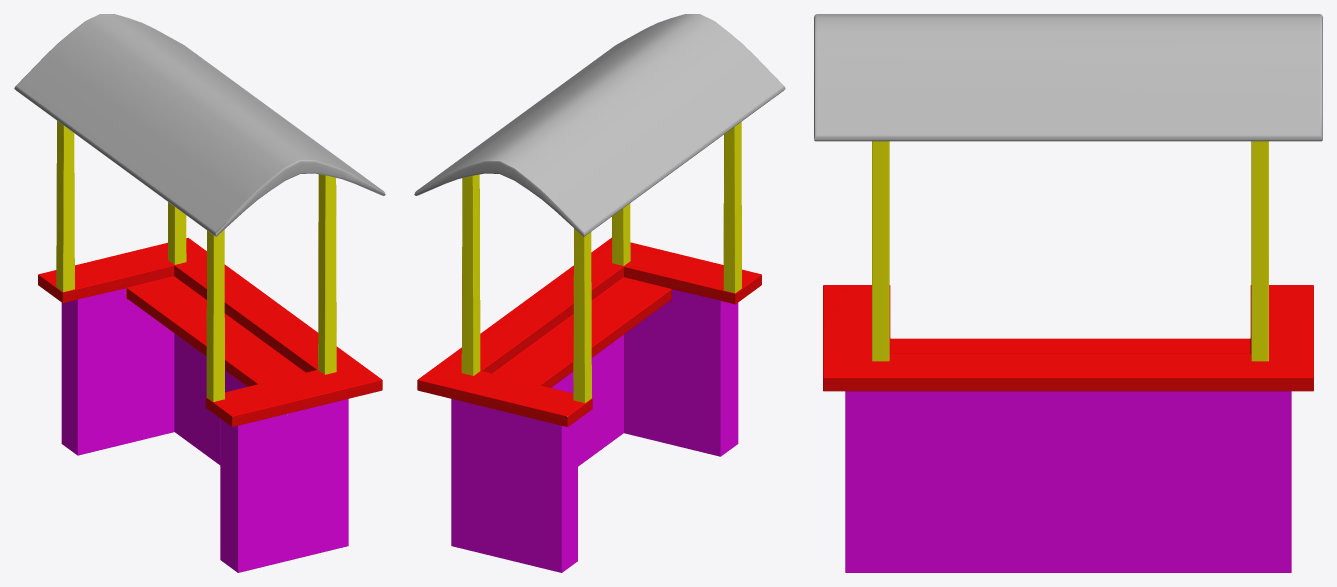
File: SM_Shack.fbx
3 views of the same model, side by side, from view 1: azimuth 30°, elevation 25°; view 2: azimuth 150°, elevation 25°; view 3: azimuth 270°, elevation 25° (orthographic). The views are drawn at different scales.
Visible parts, largest first — view 1: pCube11; view 2: pCube11; view 3: pCube11.
Boxes of the visible parts, x1,y1,x2,y2 form: pCube11: (14, 14, 385, 572); pCube11: (414, 14, 785, 572); pCube11: (814, 14, 1322, 572).
Bounding box in the file's own units: 321 × 736 × 656.
